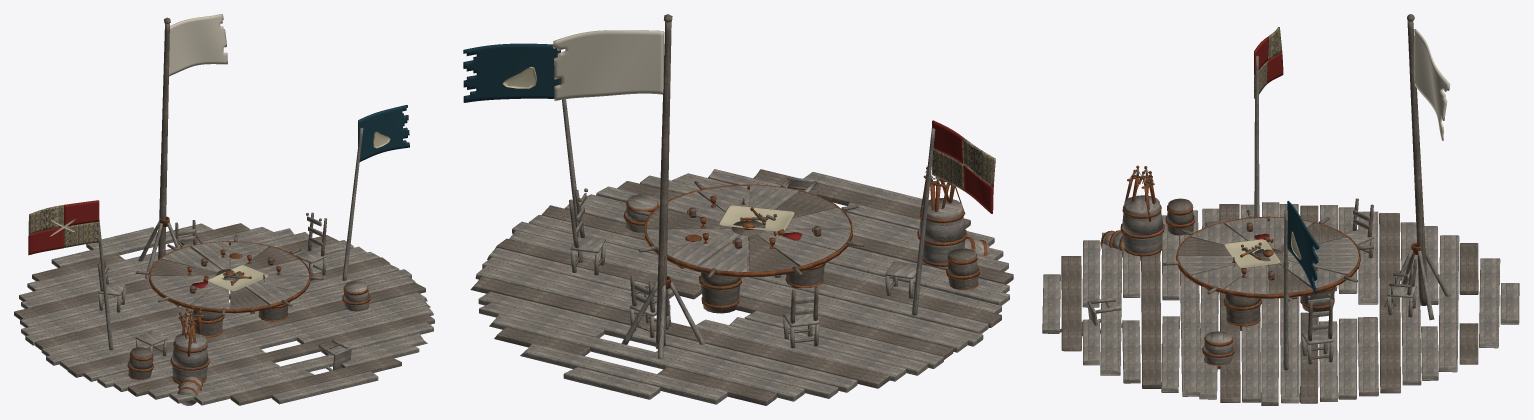
The model's file is parley_table.glb.
3 renders of one model, left to right at view 1: azimuth 30°, elevation 25°; view 2: azimuth 150°, elevation 25°; view 3: azimuth 270°, elevation 25°, orthographic. The views are drawn at different scales.
Visible parts, largest first — view 1: parley_table; view 2: parley_table; view 3: parley_table.
Part boxes in pixels (x1,y1,x2,y2): parley_table: (14, 14, 434, 405); parley_table: (463, 14, 1013, 405); parley_table: (1042, 14, 1519, 405).
Bounding box in the file's own units: 8.94 × 5.71 × 8.18.
6 materials, 6 textured.
